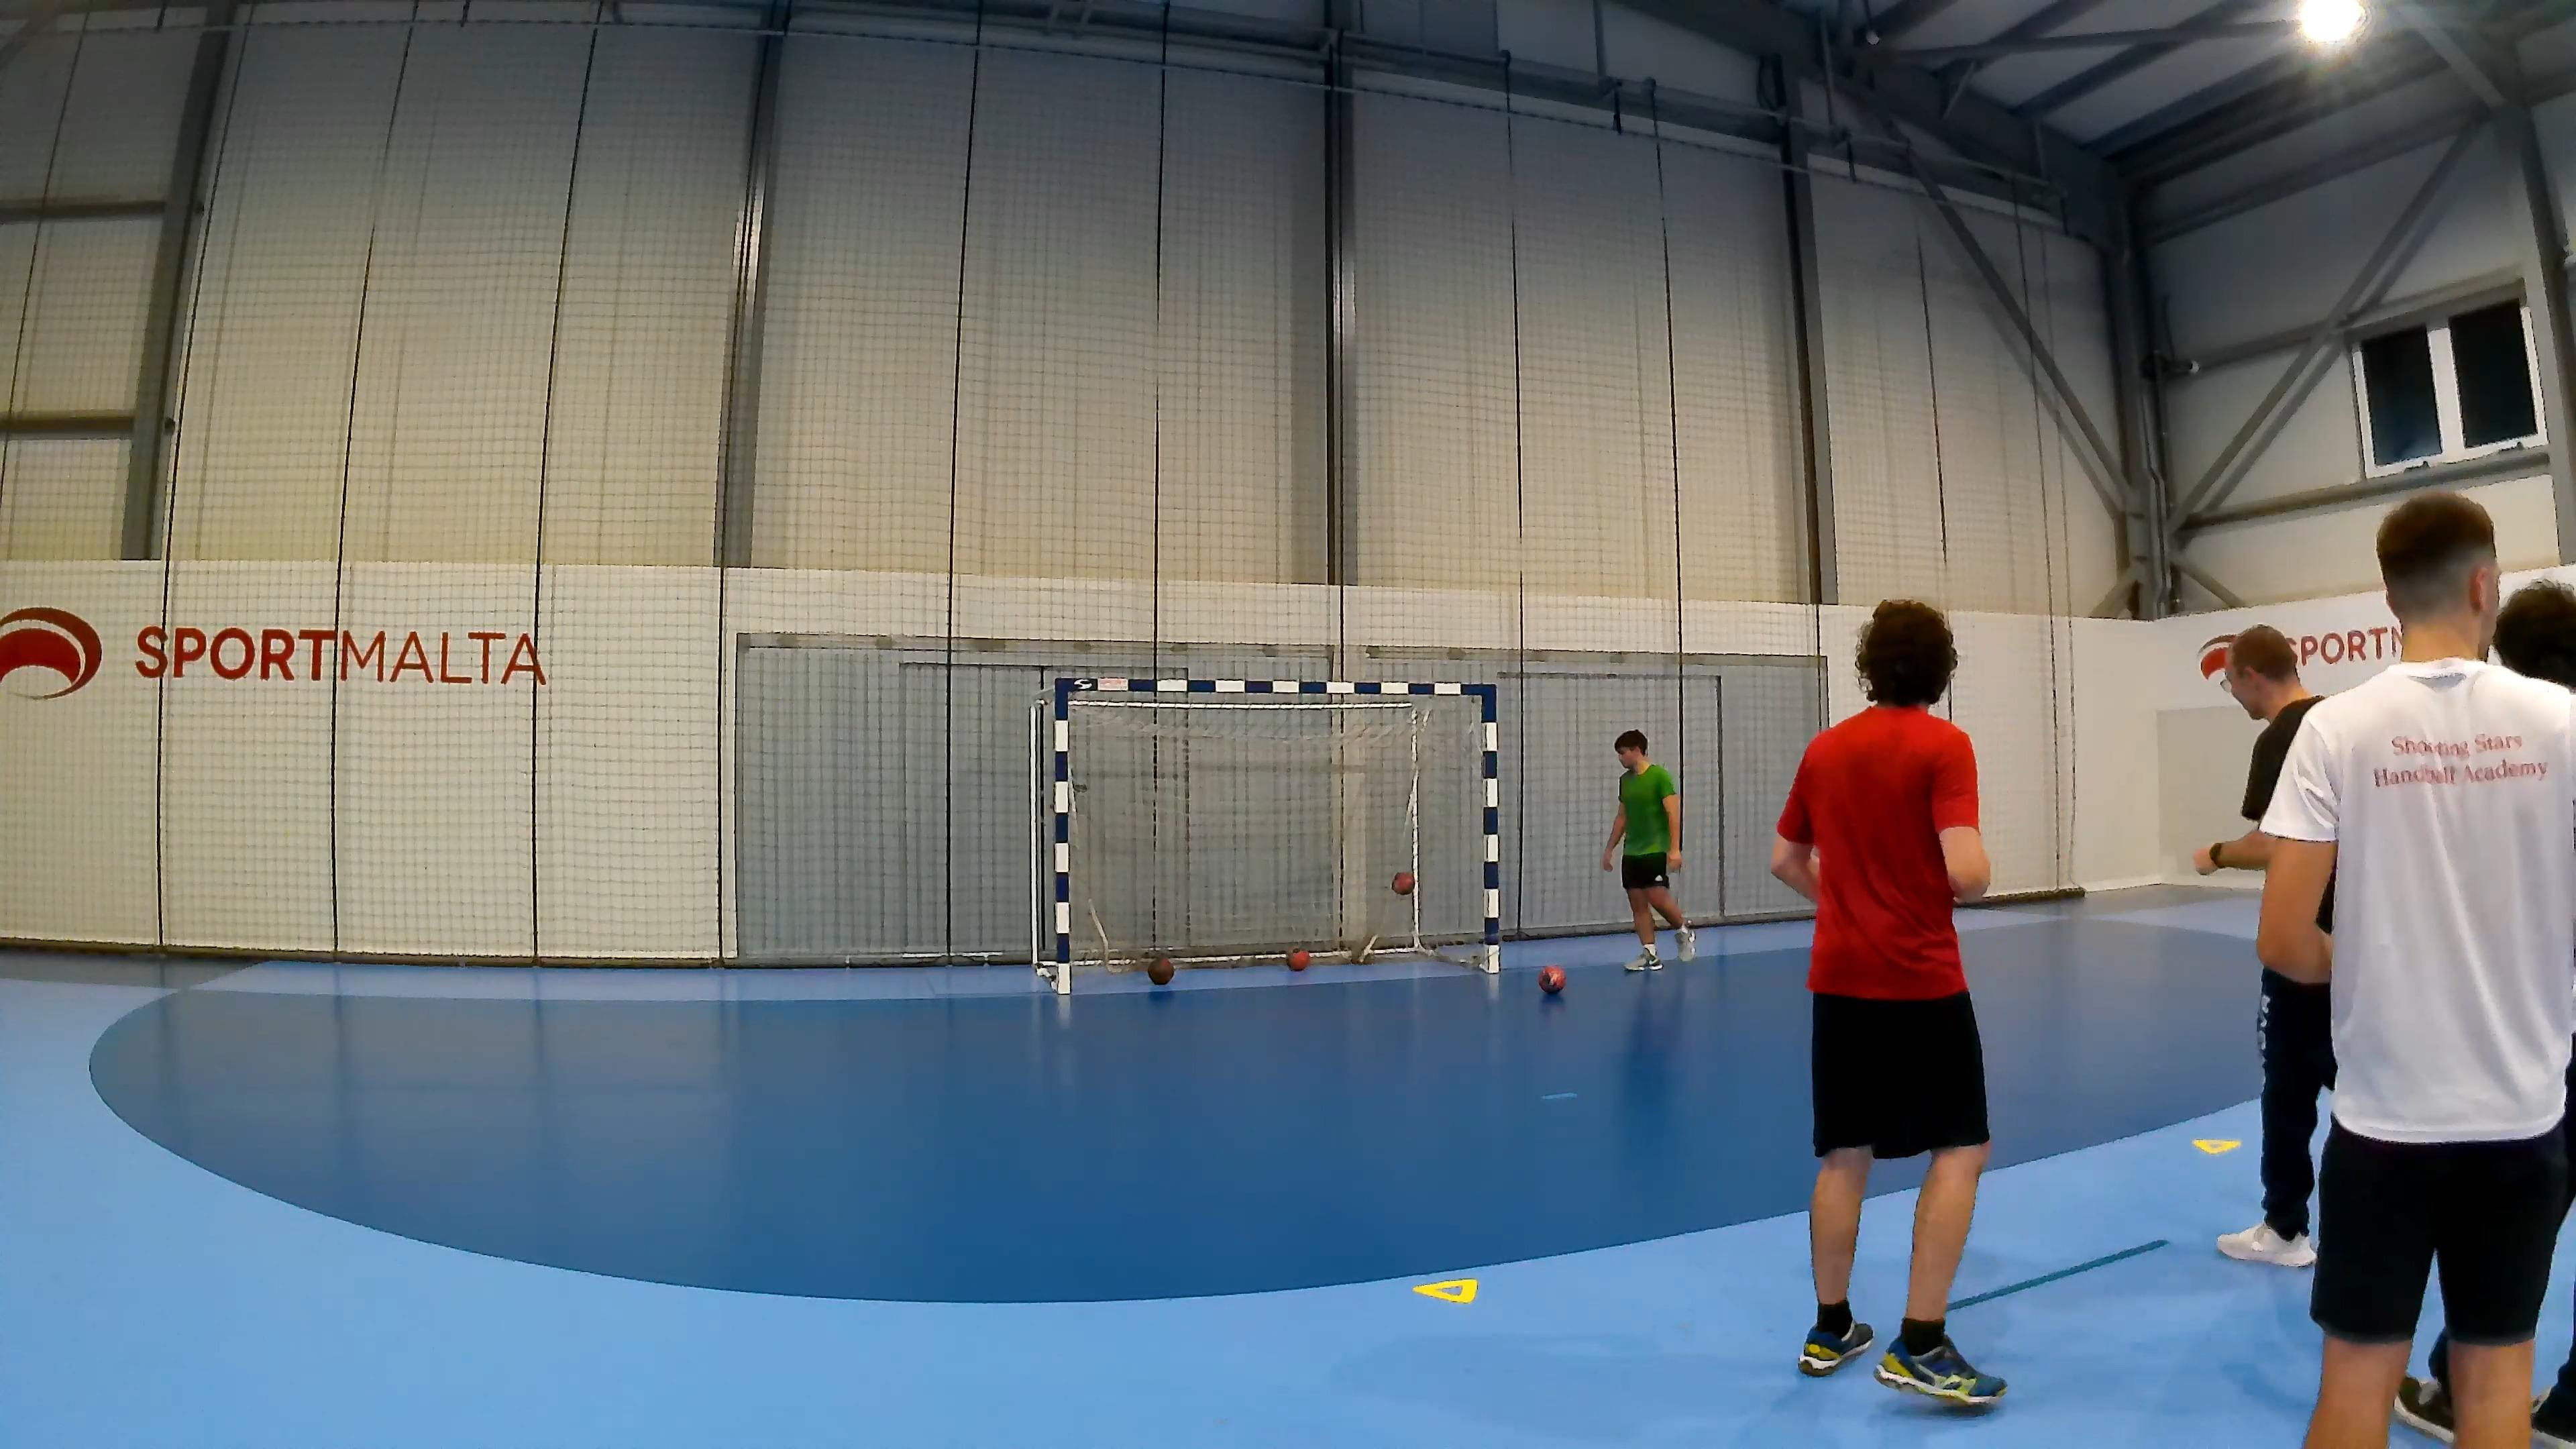handball: (1146, 954, 1173, 985), (1537, 964, 1564, 993), (1391, 870, 1414, 895), (1286, 948, 1309, 971)
